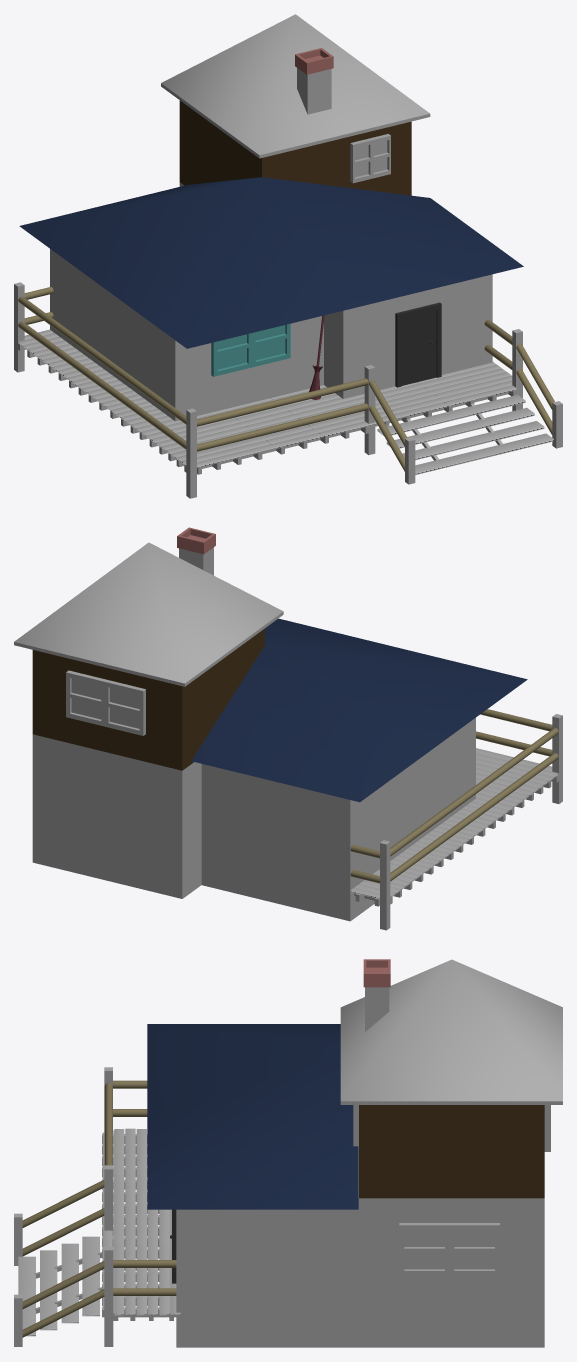
File: casa_exterior_fbx.fbx
The picture shows the model from 3 angles, top to bottom: view 1: azimuth 30°, elevation 25°; view 2: azimuth 150°, elevation 25°; view 3: azimuth 270°, elevation 25°; orthographic projection. The views are drawn at different scales.
Visible parts, largest first — view 1: Ceiling1, WoodenPlanks, Ceiling, Room1, Room, Room2, Vallas, Soporte, Door, pCube1, Vigas, pCube4 (+2 smaller); view 2: Ceiling1, Room1, Room, Ceiling, Room2, WoodenPlanks, Vallas, pCube3, Soporte, Vigas, Chimney1, Chimney; view 3: Room, Ceiling1, Ceiling, Room2, WoodenPlanks, pCube2, Vallas, Soporte, Vigas, Chimney, Chimney1.
Boxes of the visible parts, <box> form: Ceiling1: <box>19,177,523,348</box>; WoodenPlanks: <box>18,329,553,474</box>; Ceiling: <box>161,14,430,158</box>; Room1: <box>50,249,323,421</box>; Room: <box>179,182,492,398</box>; Room2: <box>179,100,411,195</box>; Vallas: <box>18,287,554,471</box>; Soporte: <box>14,282,562,498</box>; Door: <box>395,302,441,387</box>; pCube1: <box>211,323,290,376</box>; Vigas: <box>18,343,516,474</box>; pCube4: <box>350,134,390,183</box>; Ceiling1: <box>191,618,527,802</box>; Room1: <box>201,718,475,921</box>; Room: <box>32,734,201,898</box>; Ceiling: <box>14,542,283,686</box>; Room2: <box>32,628,264,770</box>; WoodenPlanks: <box>350,748,558,898</box>; Vallas: <box>350,709,558,883</box>; pCube3: <box>66,670,145,735</box>; Soporte: <box>380,714,562,930</box>; Vigas: <box>354,774,558,906</box>; Chimney1: <box>177,527,215,554</box>; Chimney: <box>179,547,213,575</box>; Room: <box>176,1146,544,1347</box>; Ceiling1: <box>147,1024,358,1209</box>; Ceiling: <box>340,959,562,1104</box>; Room2: <box>359,1105,544,1198</box>; WoodenPlanks: <box>18,1128,180,1336</box>; pCube2: <box>399,1223,499,1275</box>; Vallas: <box>22,1080,176,1337</box>; Soporte: <box>14,1067,113,1346</box>; Vigas: <box>34,1130,176,1320</box>; Chimney: <box>365,987,389,1031</box>; Chimney1: <box>363,959,390,987</box>.
Size of the model in its own units: 14.66 by 12.23 by 17.52.
